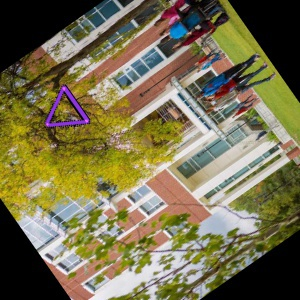triangle: (44, 81, 91, 127)
